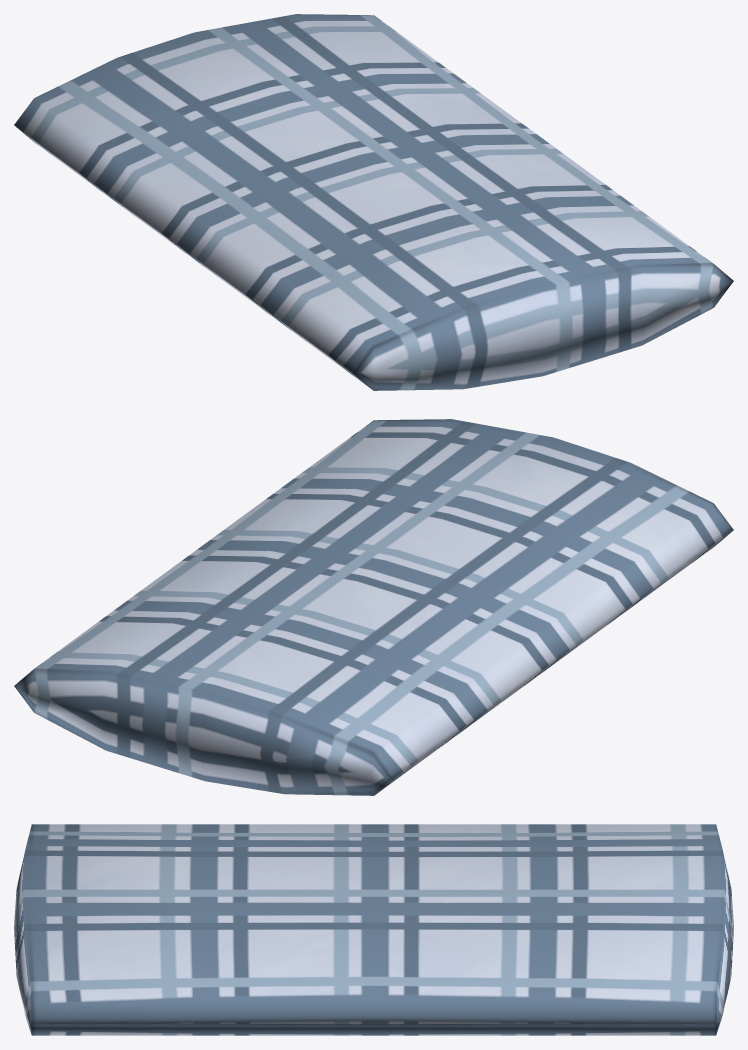
File: pillow1.fbx
3 renders of one model, top to bottom at view 1: azimuth 30°, elevation 25°; view 2: azimuth 150°, elevation 25°; view 3: azimuth 270°, elevation 25°, orthographic.
Visible parts, largest first — view 1: polySurface1556; view 2: polySurface1556; view 3: polySurface1556.
Part boxes in pixels (x1,y1,x2,y2): polySurface1556: [14, 14, 733, 390]; polySurface1556: [14, 419, 733, 795]; polySurface1556: [14, 824, 733, 1035].
Bounding box in the file's own units: 0.4724 × 0.1055 × 0.7688.
